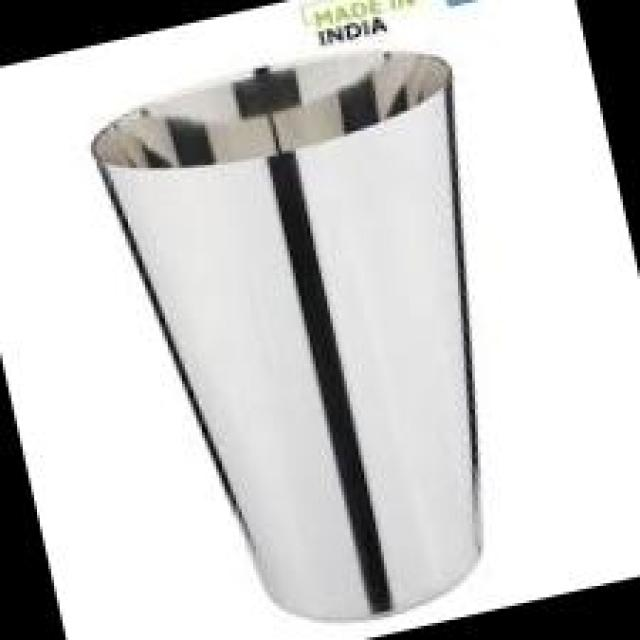bottle: (71, 20, 575, 640)
